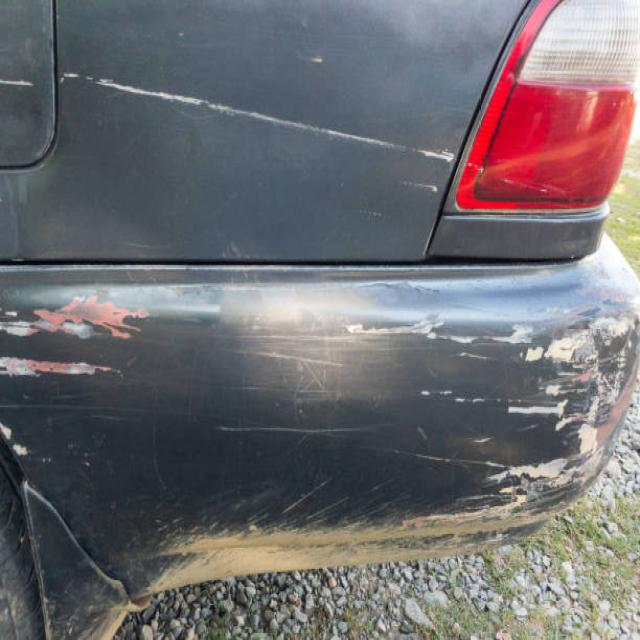Dent: (0, 78, 244, 273)
Scratch: (59, 73, 455, 162), (498, 319, 639, 516), (234, 323, 391, 406), (0, 294, 146, 339), (192, 417, 402, 446), (345, 312, 516, 343), (430, 428, 507, 467), (0, 411, 50, 467), (0, 356, 119, 374), (417, 389, 510, 410), (0, 73, 43, 92)
